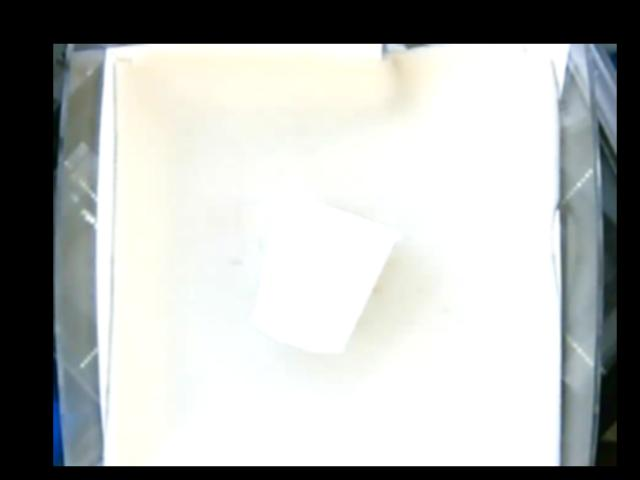Cup: (253, 194, 394, 358)
